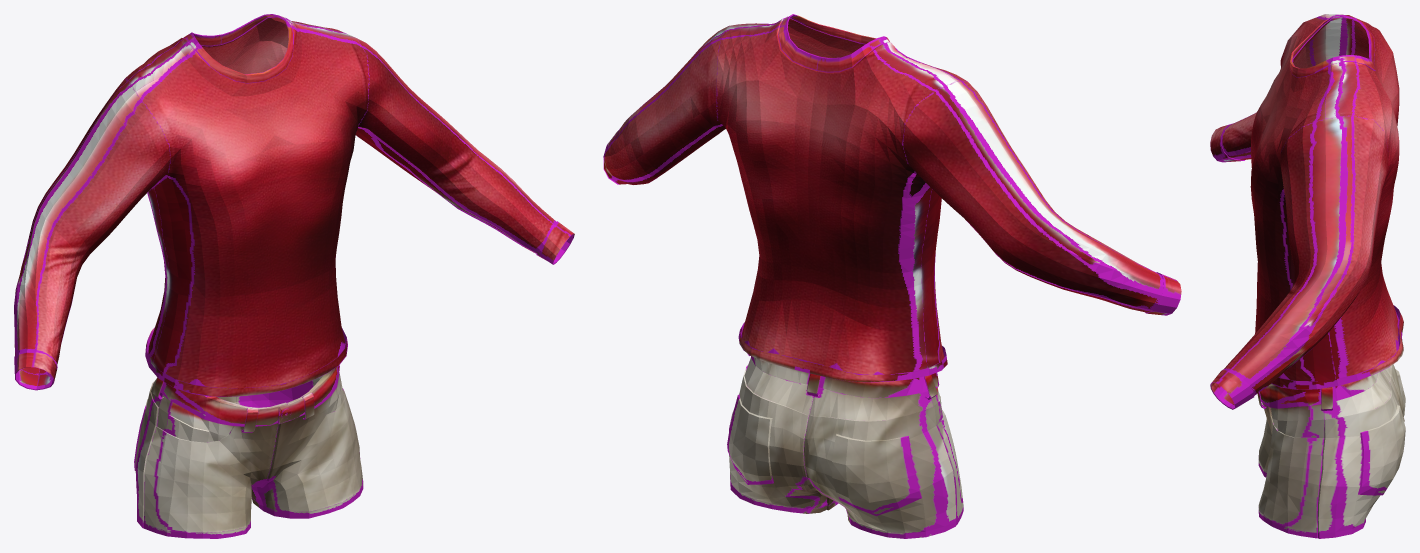
3 views of the same model, side by side, from view 1: azimuth 30°, elevation 25°; view 2: azimuth 150°, elevation 25°; view 3: azimuth 270°, elevation 25° (orthographic). The views are drawn at different scales.
Size of the model in its own units: 1.16 by 0.9405 by 0.3609.
1 material, 1 textured.
